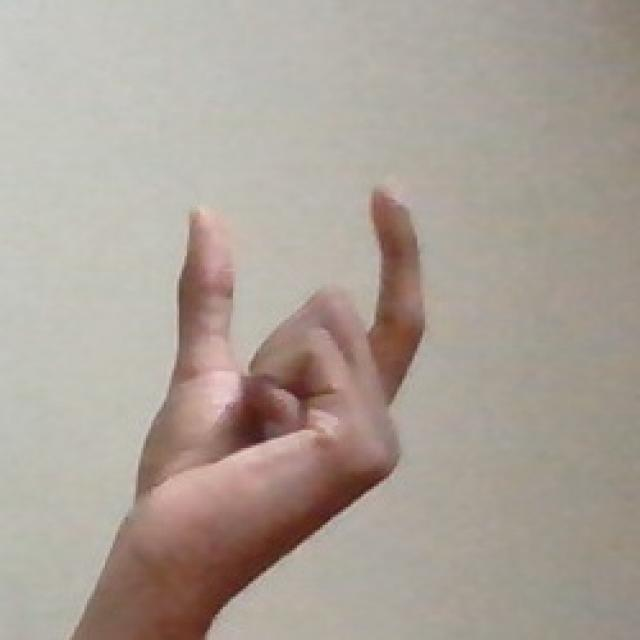Alphabet-U: (101, 150, 448, 620)
